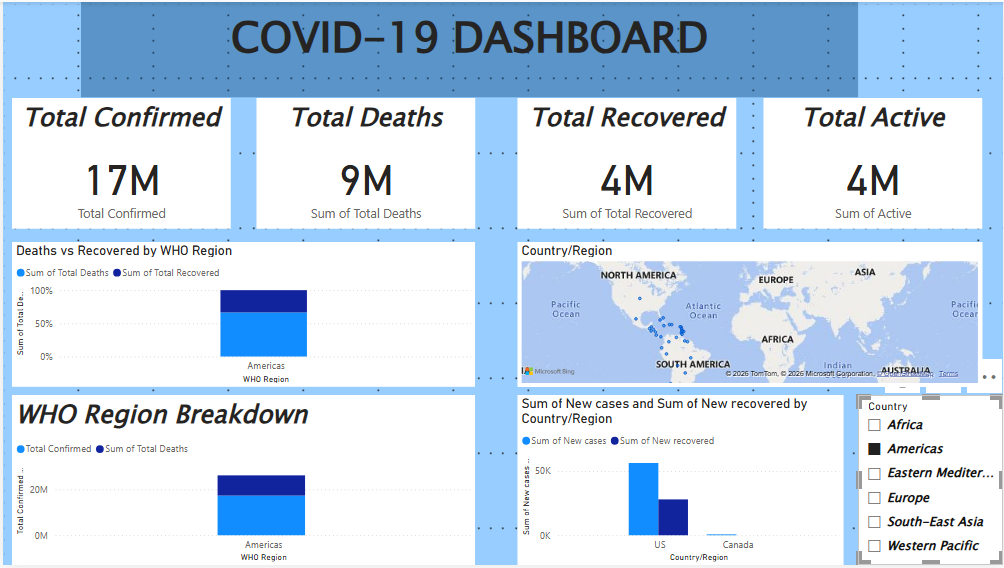

The page's visual inventory and layout, read from the dashboard file:
{"tool":"powerbi","page":{"name":"Page 1","canvas":[1280,720],"ordinal":0},"visuals":[{"type":"card","title":"Total Confirmed","fields":{"Values":["country_wise_latest.Total Confirmed"]},"box":[11,122.1,279.9,167.4],"z":0},{"type":"card","title":"Total Deaths","fields":{"Values":["Sum(country_wise_latest.Total Deaths)"]},"box":[323.8,122.1,279.9,167.4],"z":1000},{"type":"card","title":"Total Recovered","fields":{"Values":["Sum(country_wise_latest.Total Recovered)"]},"box":[658.7,122.1,279.9,167.4],"z":2000},{"type":"card","title":"Total Active","fields":{"Values":["Sum(country_wise_latest.Active)"]},"box":[972.9,122.1,279.9,167.4],"z":3000},{"type":"columnChart","title":" WHO Region Breakdown ","fields":{"Category":["country_wise_latest.WHO Region"],"Y":["country_wise_latest.Total Confirmed","Sum(country_wise_latest.Total Deaths)"]},"box":[11,502.2,592.8,218.2],"z":4000},{"type":"clusteredColumnChart","fields":{"Y":["Sum(country_wise_latest.New cases)","Sum(country_wise_latest.New recovered)"],"Category":["country_wise_latest.Country/Region"]},"box":[658.7,502.2,417.2,218.2],"z":5000},{"type":"slicer","fields":{"Values":["country_wise_latest.WHO Region"]},"box":[1095,502.2,185.2,218.2],"z":6000},{"type":"map","fields":{"Category":["country_wise_latest.Country/Region"]},"box":[658.7,307.4,594.2,185.2],"z":7000},{"type":"hundredPercentStackedColumnChart","title":"Deaths vs Recovered by WHO Region","fields":{"Y":["Sum(country_wise_latest.Total Deaths)","Sum(country_wise_latest.Total Recovered)"],"Category":["country_wise_latest.WHO Region"]},"box":[11,307.4,592.8,185.2],"z":8000},{"type":"textbox","box":[100.2,0,994.9,122.1],"z":9000}]}

Visuals, with their boxes in screenshot pixels (x1, y1, x2, y2), scaled from the page's 1280x720 canvas onto the 1004x568 screenshot:
"Total Confirmed" card: {"left": 9, "top": 96, "right": 228, "bottom": 228}
"Total Deaths" card: {"left": 254, "top": 96, "right": 474, "bottom": 228}
"Total Recovered" card: {"left": 517, "top": 96, "right": 736, "bottom": 228}
"Total Active" card: {"left": 763, "top": 96, "right": 983, "bottom": 228}
" WHO Region Breakdown " columnChart: {"left": 9, "top": 396, "right": 474, "bottom": 567}
clusteredColumnChart - Sum(country_wise_latest.New cases) x Sum(country_wise_latest.New recovered): {"left": 517, "top": 396, "right": 844, "bottom": 567}
slicer - country_wise_latest.WHO Region: {"left": 859, "top": 396, "right": 1003, "bottom": 567}
map - country_wise_latest.Country/Region: {"left": 517, "top": 243, "right": 983, "bottom": 389}
"Deaths vs Recovered by WHO Region" hundredPercentStackedColumnChart: {"left": 9, "top": 243, "right": 474, "bottom": 389}
textbox: {"left": 79, "top": 0, "right": 859, "bottom": 96}
